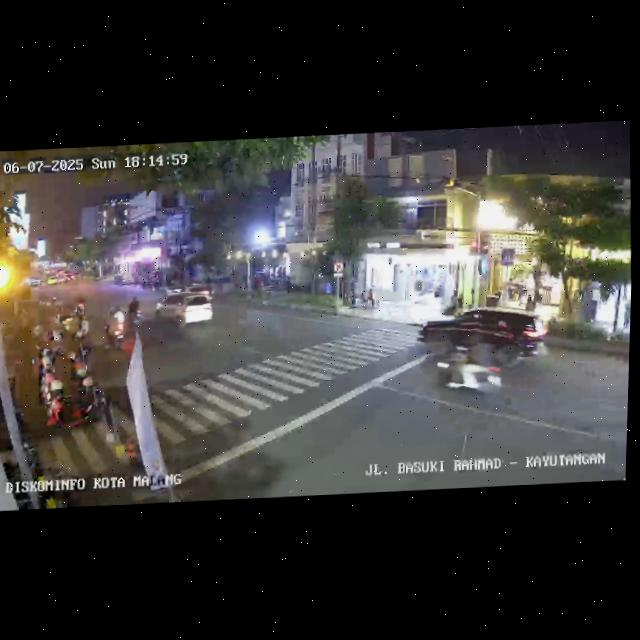car: (417, 304, 549, 370), (150, 290, 215, 332)
motorcycle: (427, 326, 507, 400), (107, 305, 128, 348), (125, 296, 144, 324)
person: (586, 294, 598, 326), (621, 300, 631, 329)
